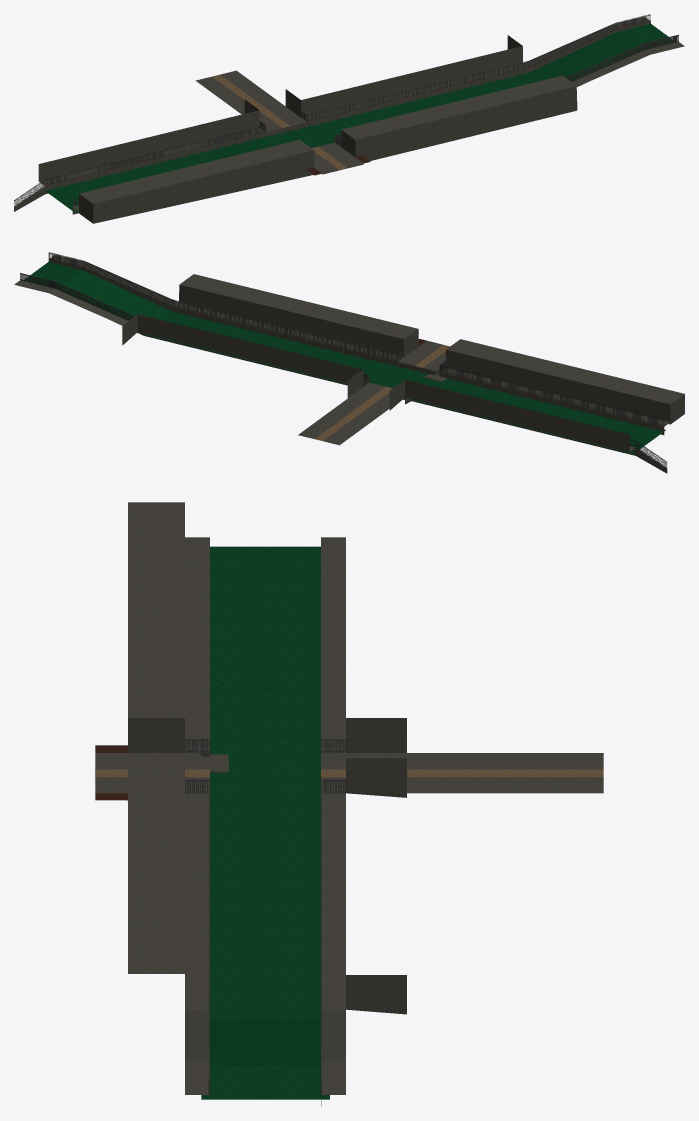
Rendered from RiverSide.fbx.
3 views of the same model, one above another, from view 1: azimuth 30°, elevation 25°; view 2: azimuth 150°, elevation 25°; view 3: azimuth 270°, elevation 25° (orthographic). The views are drawn at different scales.
Parts seen in each view (by area): view 1: Cube.001, river, Cube.002, Plane.003, brickPath; view 2: Cube.001, river, Cube.002, Plane.001, brickPath; view 3: river, Cube.001, Cube.002, brickPath.
Part boxes in pixels (<box>): Cube.001: <box>14,14,684,223</box>; river: <box>45,24,672,212</box>; Cube.002: <box>195,70,307,136</box>; Plane.003: <box>45,126,265,185</box>; brickPath: <box>306,142,370,175</box>; Cube.001: <box>14,252,684,473</box>; river: <box>24,262,665,453</box>; Cube.002: <box>298,382,404,445</box>; Plane.001: <box>440,365,664,426</box>; brickPath: <box>397,339,445,375</box>; river: <box>201,546,329,1099</box>; Cube.001: <box>128,502,406,1105</box>; Cube.002: <box>321,753,603,793</box>; brickPath: <box>95,745,209,800</box>.
Size of the model in its own units: 1355 by 86.35 by 468.
